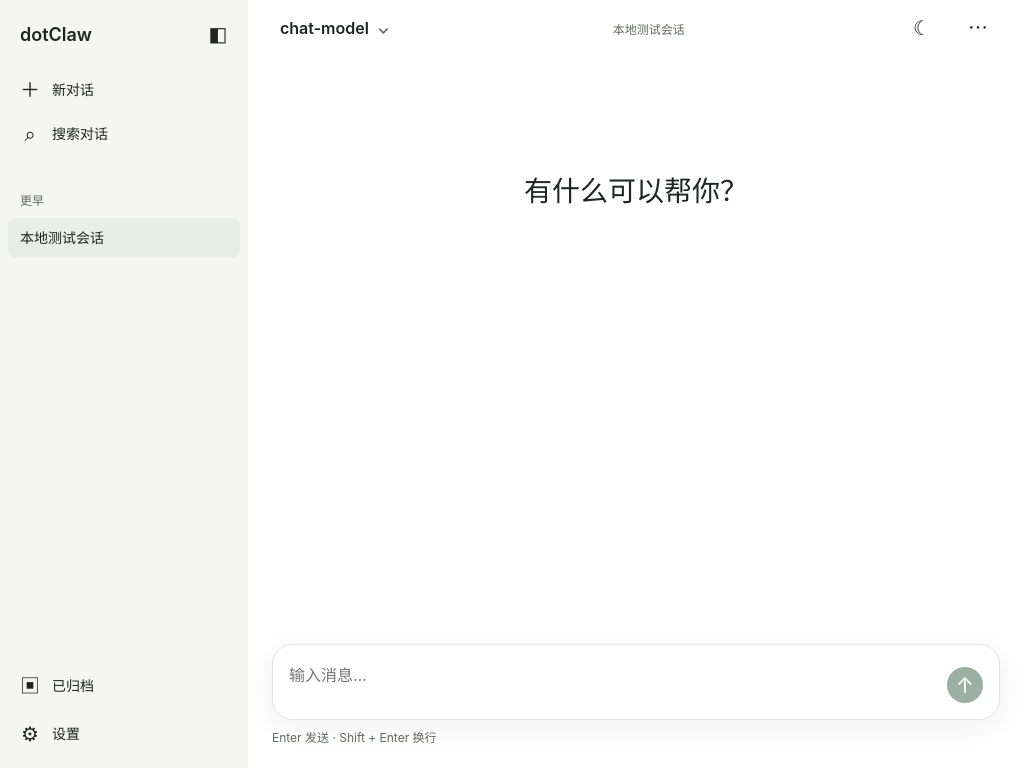
it: 对话工作区 › 加载已保存消息并正确处理成功流的最终正文
Expected: the button named "当前会话更多操作" is shown, [956,6,1000,50]
Type "请回答" into the text box labelled "输入消息" at (612, 683), box [289,659,935,707]
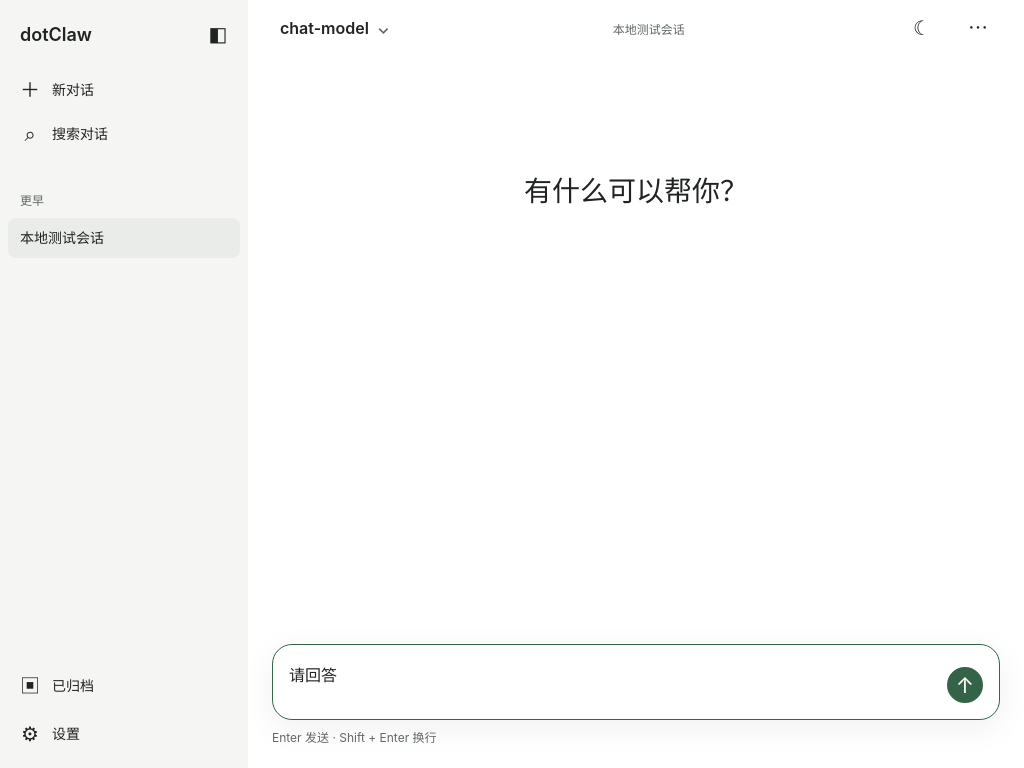
Click the button named "发送消息" at (965, 685), box [943,663,987,707]
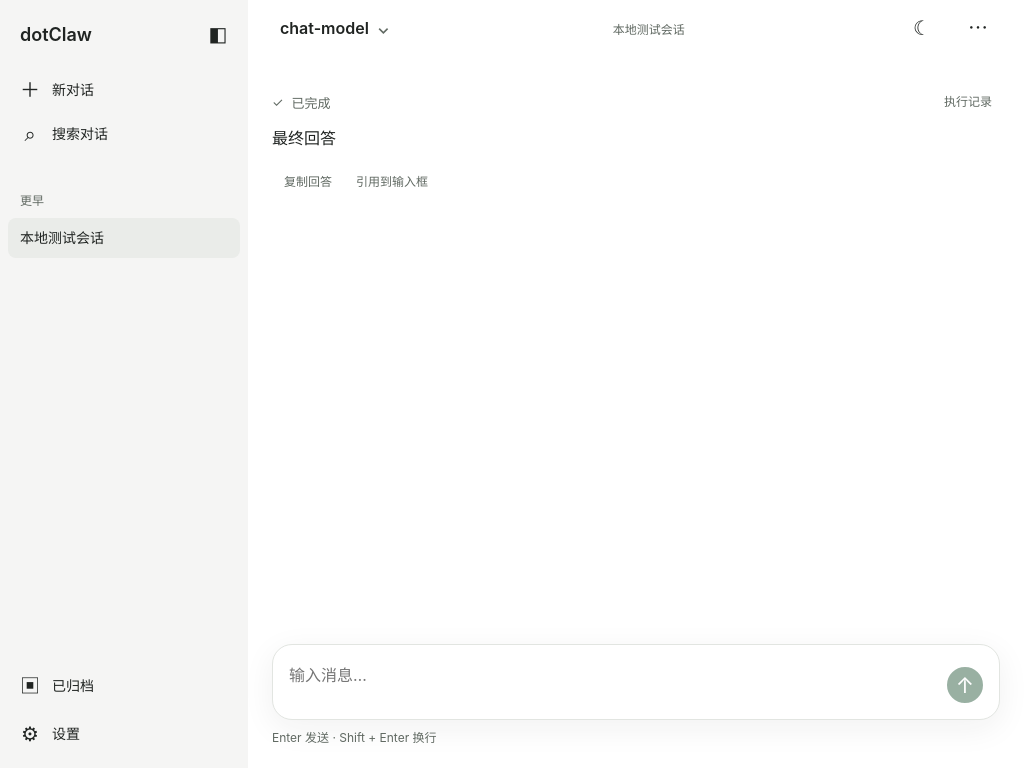
Expected: the text "最终回答" is shown once, [272,128,336,148]
